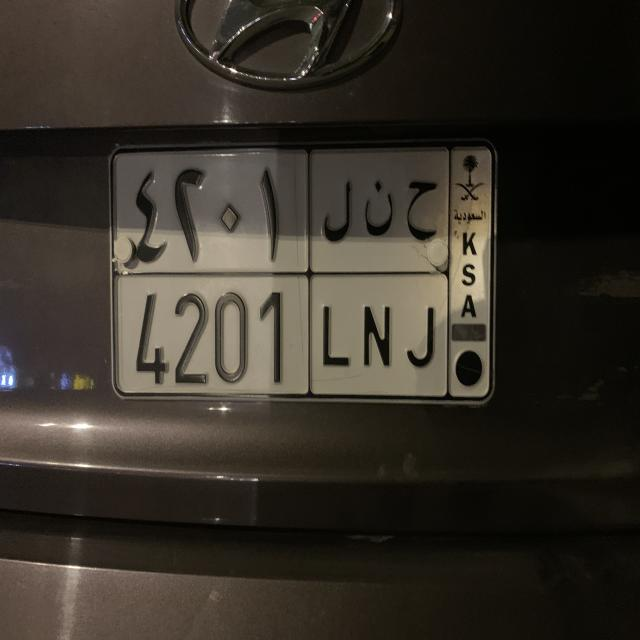license_plate: (106, 133, 502, 410)
